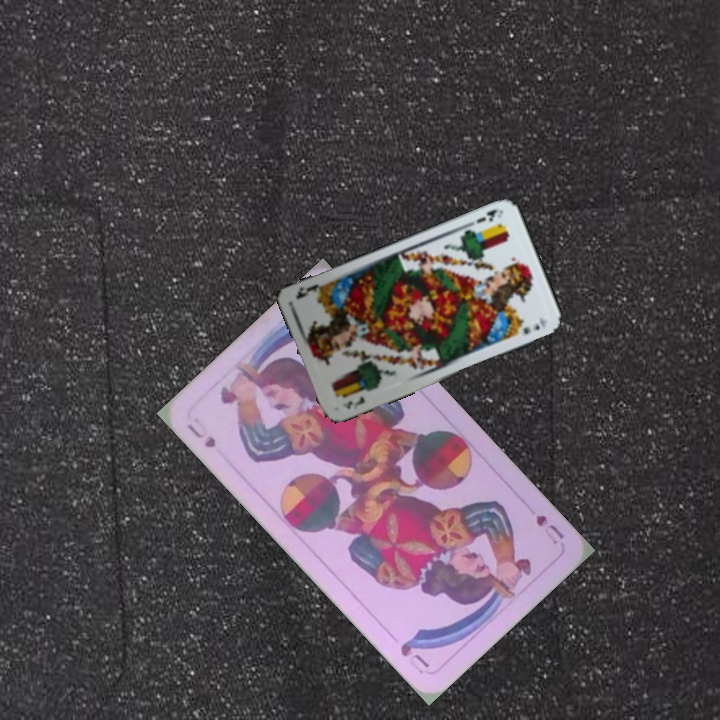EK: (472, 205, 503, 226), (339, 392, 368, 412)
SU: (183, 413, 219, 451), (531, 510, 567, 548)
